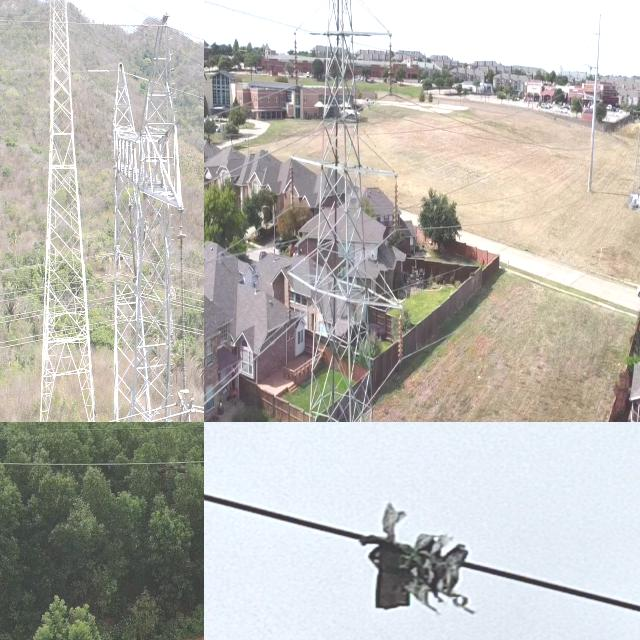杆塔: (280, 0, 403, 422), (109, 14, 193, 422), (36, 0, 97, 422), (631, 18, 640, 208)
植被遮挡: (351, 500, 495, 615)
正常绝缘子: (177, 228, 190, 396), (288, 28, 311, 104), (394, 293, 412, 381), (382, 34, 402, 104), (388, 167, 404, 246), (127, 202, 138, 282), (287, 154, 299, 227), (284, 270, 296, 338)
